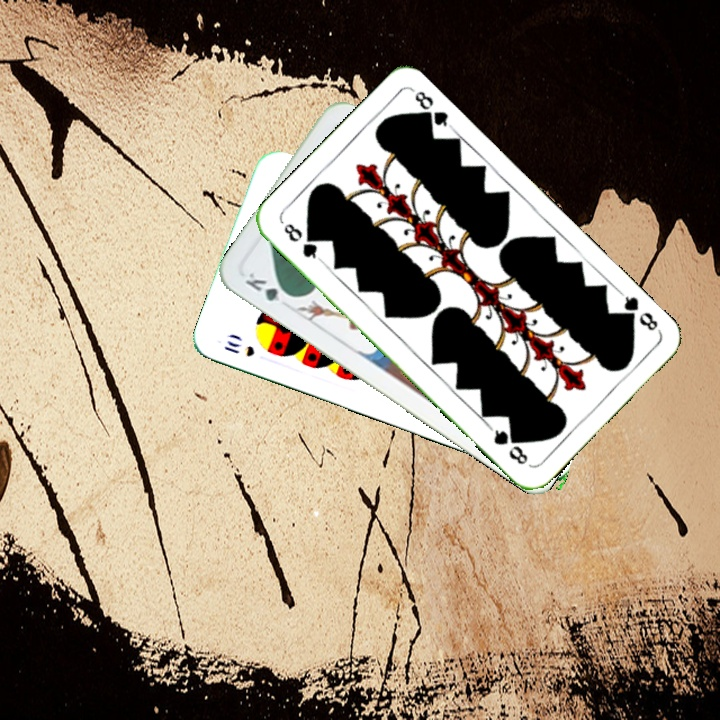G8: (616, 288, 662, 334), (279, 219, 324, 264)
GK: (241, 267, 296, 304)
S10: (219, 336, 258, 360)
